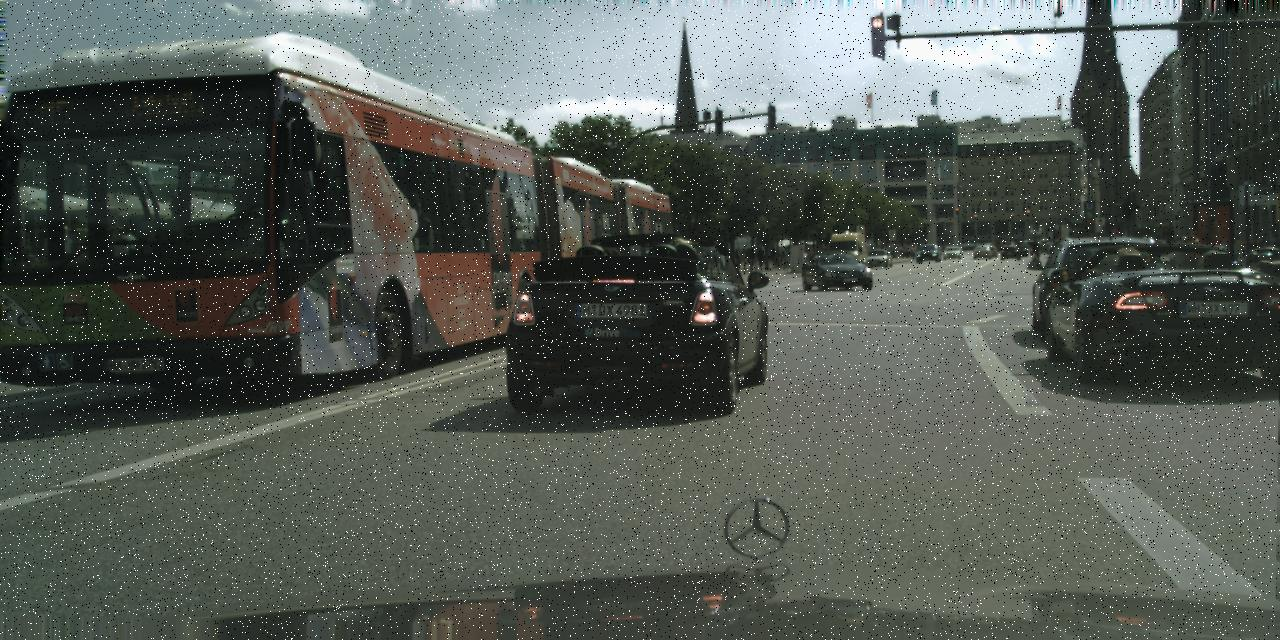ped: (1184, 230, 1204, 278), (886, 243, 916, 259), (1232, 234, 1244, 264), (1245, 236, 1257, 266), (1158, 235, 1190, 243), (735, 247, 744, 269), (1257, 234, 1270, 247), (1031, 238, 1038, 259), (742, 244, 749, 262), (756, 247, 763, 264), (748, 248, 754, 264), (1017, 244, 1022, 259), (770, 246, 774, 258)
